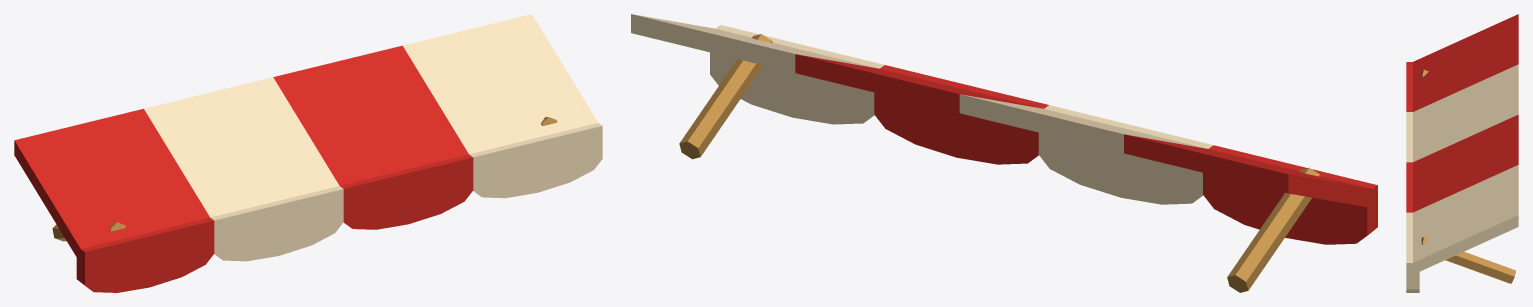
The model's file is side-awning.fbx.
3 views of the same model, side by side, from view 1: azimuth 30°, elevation 25°; view 2: azimuth 150°, elevation 25°; view 3: azimuth 270°, elevation 25° (orthographic). The views are drawn at different scales.
Parts seen in each view (by area): view 1: side-awning; view 2: side-awning; view 3: side-awning.
Boxes of the visible parts, x1,y1,x2,y2 form: side-awning: [14, 14, 602, 292]; side-awning: [631, 14, 1377, 292]; side-awning: [1406, 14, 1518, 292].
Size of the model in its own units: 1800 by 370 by 425.
Materials: 1 (1 with a texture image).
